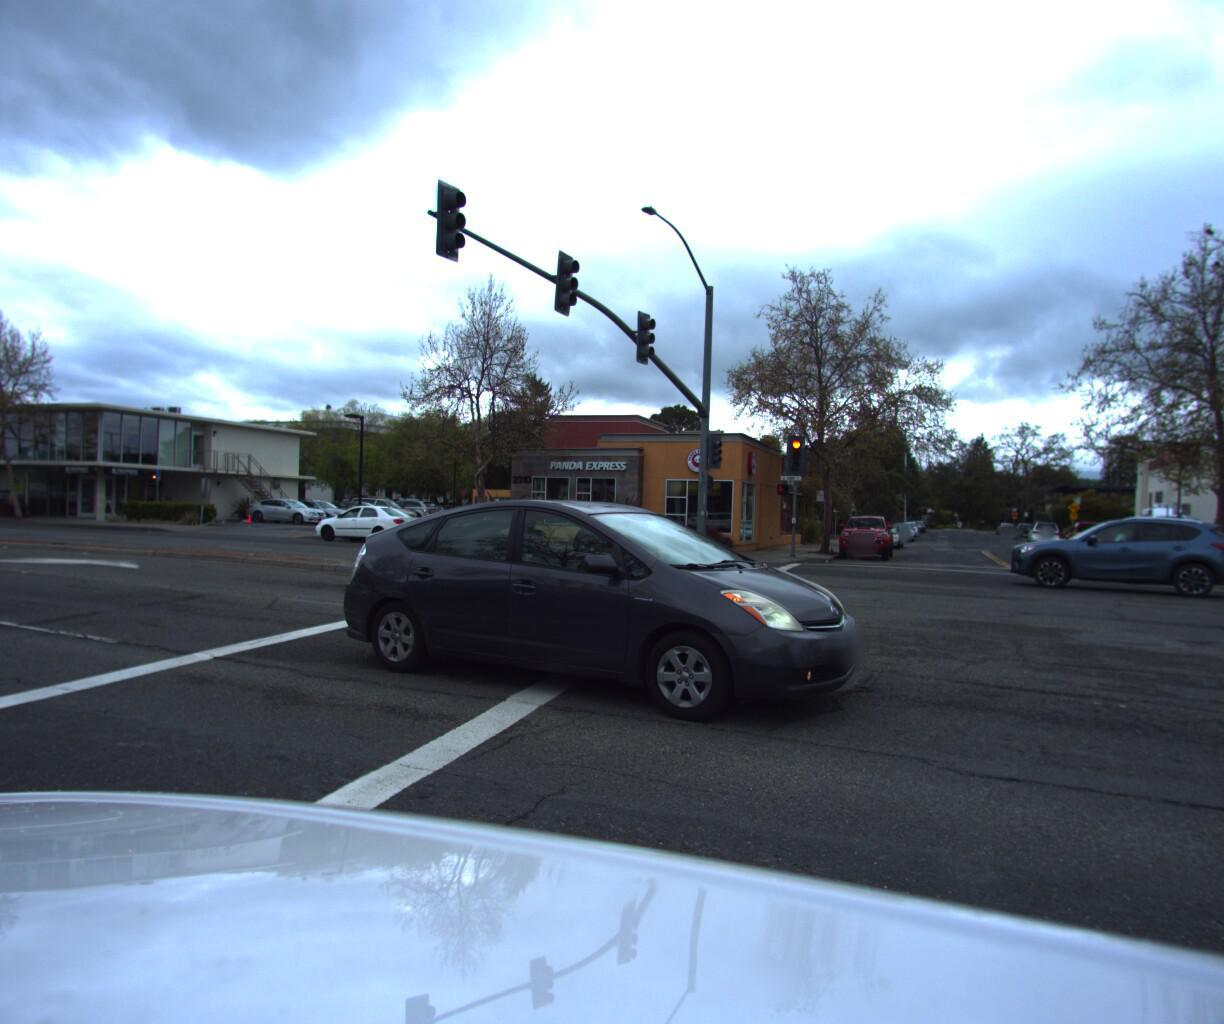car: (291, 477, 857, 727), (1002, 518, 1224, 608), (304, 509, 427, 558), (1056, 529, 1125, 575), (832, 524, 889, 573), (1021, 529, 1059, 557), (884, 533, 913, 554)
truck: (1130, 513, 1189, 559)
